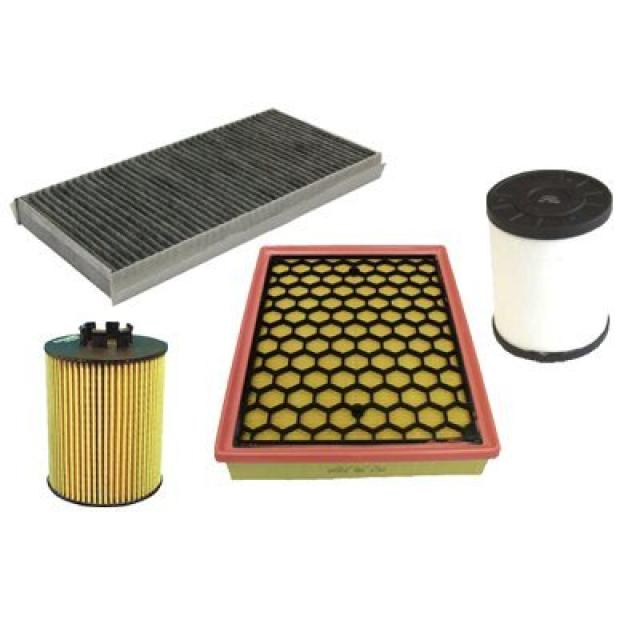air_filter: (10, 105, 393, 304), (224, 240, 496, 477)
oil_filter: (482, 160, 622, 366), (34, 318, 172, 511)
